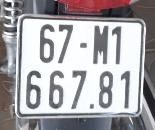1: (118, 69, 134, 113), (108, 24, 124, 66)
6: (24, 68, 44, 111), (47, 68, 66, 112), (36, 22, 56, 63)
7: (69, 67, 86, 112), (57, 21, 73, 64)
8: (97, 67, 116, 111)
M: (89, 22, 109, 67)
